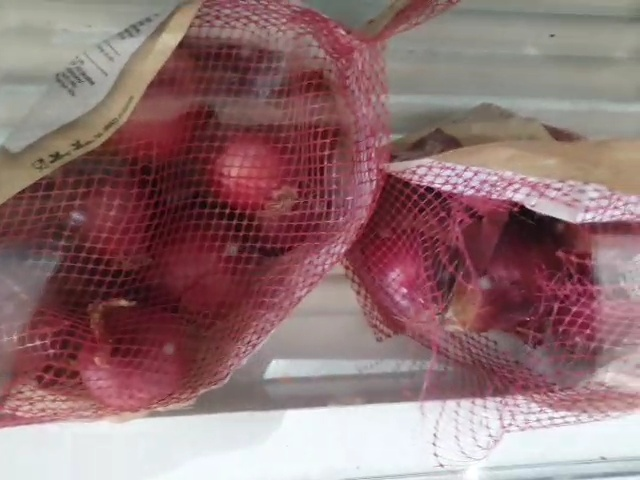red_onion: (10, 12, 355, 401), (387, 195, 597, 377)
